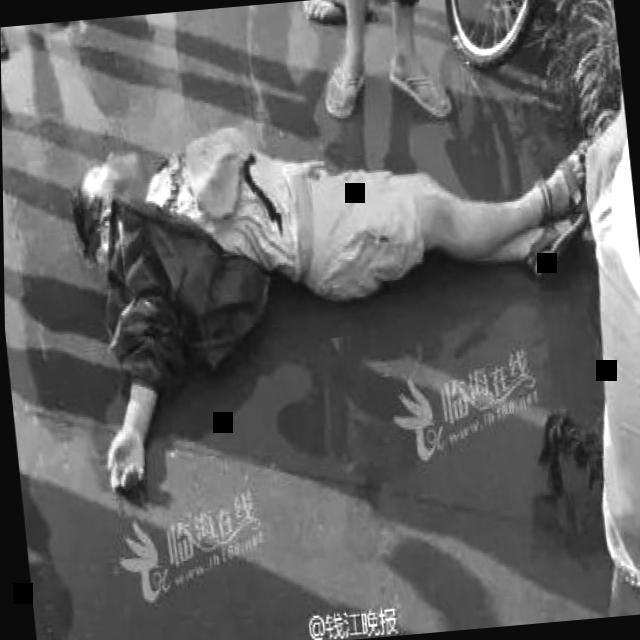Fall-Detected: (28, 54, 617, 513)
